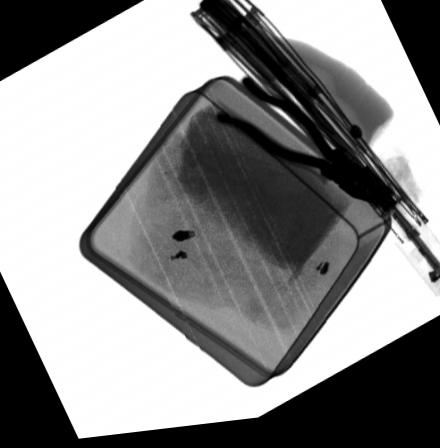Pliers: (214, 80, 400, 225)
